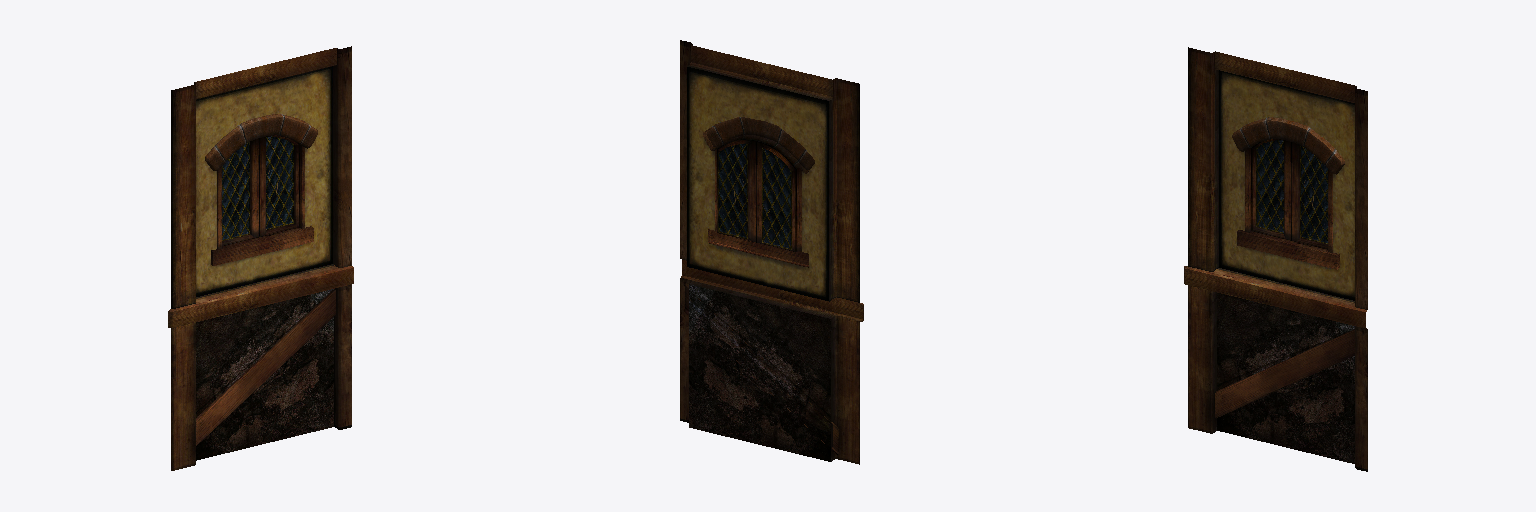
3 views of the same model, side by side, from view 1: azimuth 30°, elevation 25°; view 2: azimuth 150°, elevation 25°; view 3: azimuth 330°, elevation 25° (orthographic).
Parts seen in each view (by area): view 1: Wall001_C019; view 2: Wall001_C019; view 3: Wall001_C019.
Part boxes in pixels (bbox=[...]): Wall001_C019: bbox=[168, 46, 353, 470]; Wall001_C019: bbox=[680, 40, 863, 464]; Wall001_C019: bbox=[1184, 47, 1367, 471].
Bounding box in the file's own units: 129 × 256 × 14.39.
Materials: 1 (1 with a texture image).